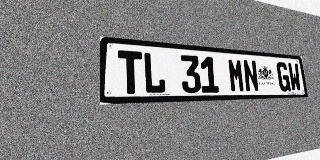1: (199, 56, 219, 93)
3: (180, 55, 201, 93)
G: (276, 62, 291, 92)
L: (143, 52, 166, 94)
M: (227, 58, 245, 92)
N: (242, 59, 259, 92)
T: (118, 50, 143, 94)
W: (287, 63, 302, 91)
